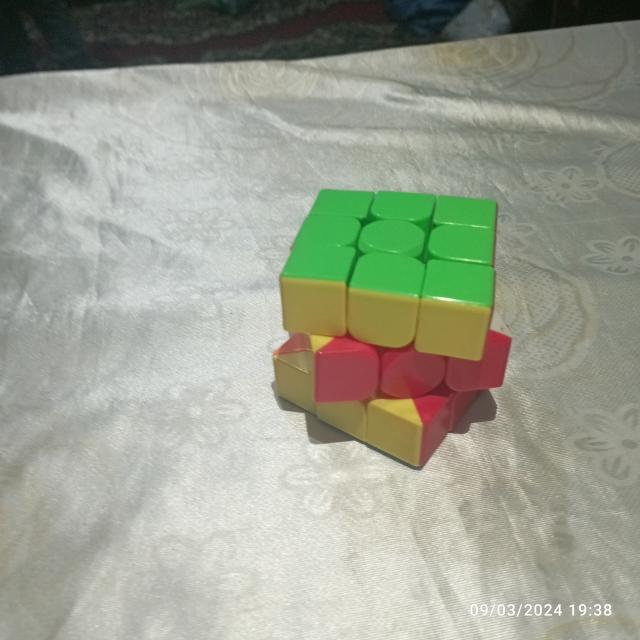Rub: (267, 177, 523, 472)
